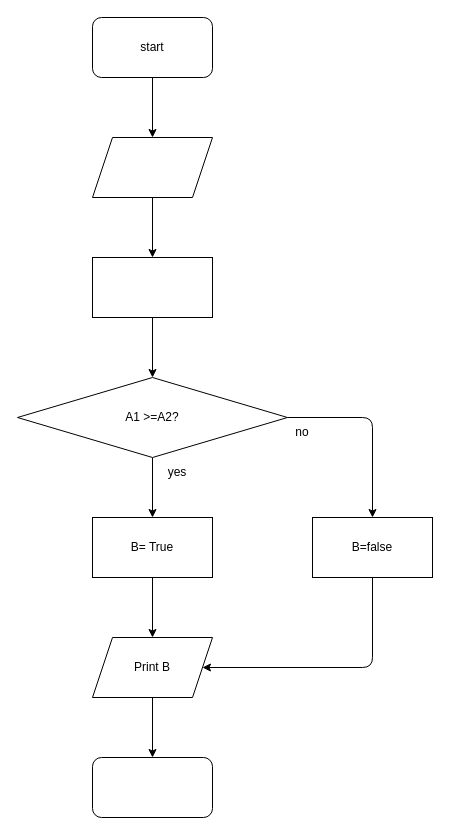
The diagram is 450 pixels wide and 835 high, and some of its shapes have lost their labels. The shapes that lost their labels are listed below. From the top down, each one's centre as x and y in pixels, then its label:
At (152,167): "Input E,R".
At (152,287): "A1=ExE A2=3,14xRxR".
At (152,787): "Stop".
